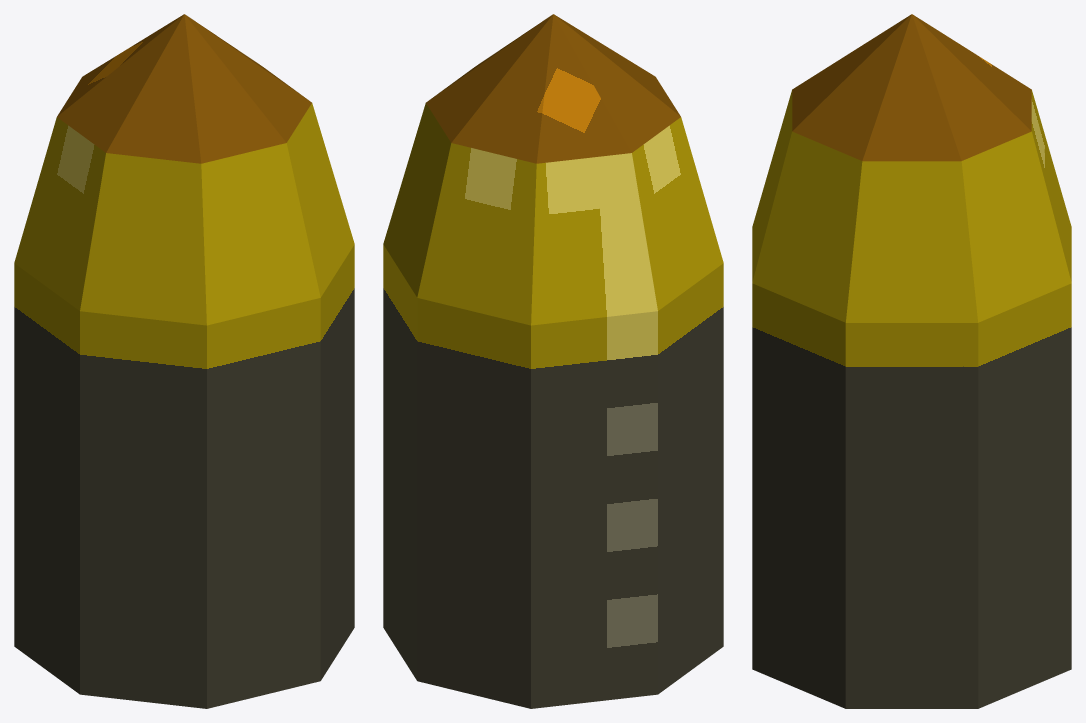
Rendered from tank_shell.gltf.
3 views of the same model, side by side, from view 1: azimuth 30°, elevation 25°; view 2: azimuth 150°, elevation 25°; view 3: azimuth 270°, elevation 25° (orthographic).
Visible parts, largest first — view 1: cylinder; view 2: cylinder; view 3: cylinder.
Boxes of the visible parts, left/top/right/bottom form: cylinder: left=14, top=14, right=354, bottom=708; cylinder: left=383, top=14, right=723, bottom=708; cylinder: left=752, top=14, right=1071, bottom=708.
Size of the model in its own units: 0.375 by 0.8125 by 0.375.
1 material, 1 textured.
